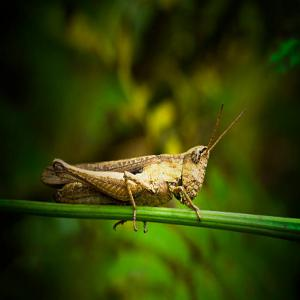locust: (34, 108, 241, 220)
